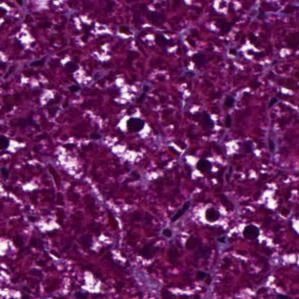inflammation: (117, 109, 151, 143), (183, 150, 220, 181), (196, 199, 233, 229), (237, 215, 265, 246)
